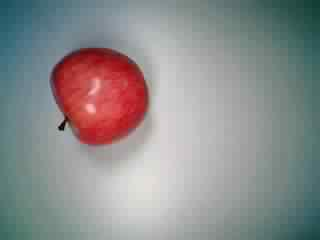apple: (49, 45, 153, 149)
